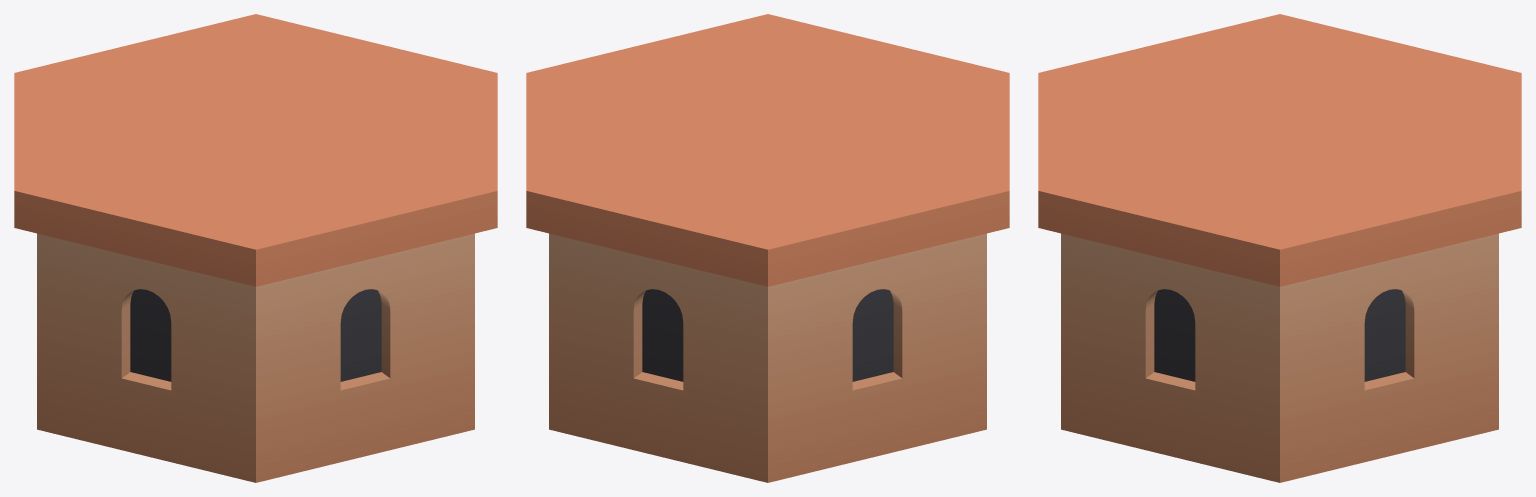
Rendered from tower-hexagon-mid.obj.
3 renders of one model, left to right at view 1: azimuth 30°, elevation 25°; view 2: azimuth 150°, elevation 25°; view 3: azimuth 270°, elevation 25°, orthographic.
Visible parts, largest first — view 1: tower-hexagon-mid; view 2: tower-hexagon-mid; view 3: tower-hexagon-mid.
Boxes of the visible parts, box(x1,y1,x2,y2) form: tower-hexagon-mid: box(14, 14, 497, 482); tower-hexagon-mid: box(526, 14, 1009, 482); tower-hexagon-mid: box(1038, 14, 1521, 482).
Bounding box in the file's own units: 0.9524 × 0.46 × 0.8248.
Materials: 1 (1 with a texture image).
